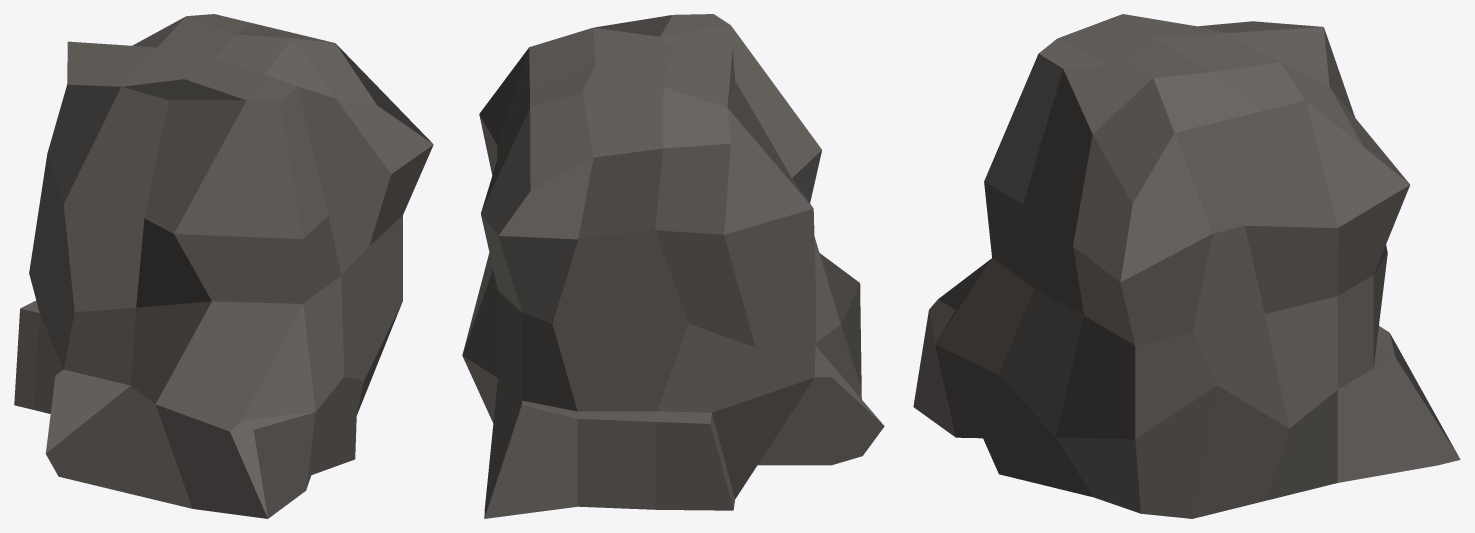
Rendered from Rock_7.fbx.
3 views of the same model, side by side, from view 1: azimuth 30°, elevation 25°; view 2: azimuth 150°, elevation 25°; view 3: azimuth 270°, elevation 25° (orthographic). The views are drawn at different scales.
Visible parts, largest first — view 1: Rock_7; view 2: Rock_7; view 3: Rock_7.
Boxes of the visible parts, x1,y1,x2,y2 form: Rock_7: [14, 14, 433, 518]; Rock_7: [462, 14, 884, 518]; Rock_7: [913, 14, 1460, 518].
Size of the model in its own units: 10.03 by 9.01 by 11.13.
1 material, 1 textured.
